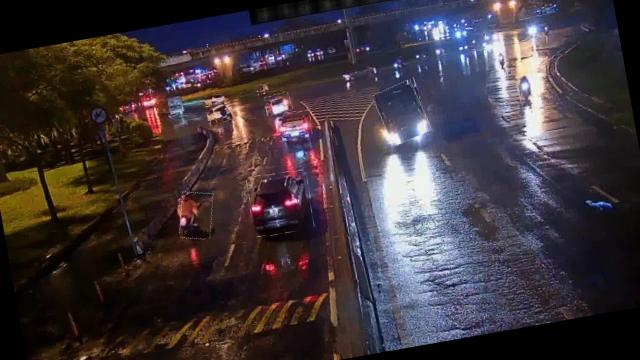Bike: (175, 188, 218, 241), (514, 73, 536, 105)
Car: (245, 168, 316, 238), (275, 108, 313, 141), (205, 99, 234, 124), (264, 92, 292, 116)
Truck: (374, 80, 431, 146)
